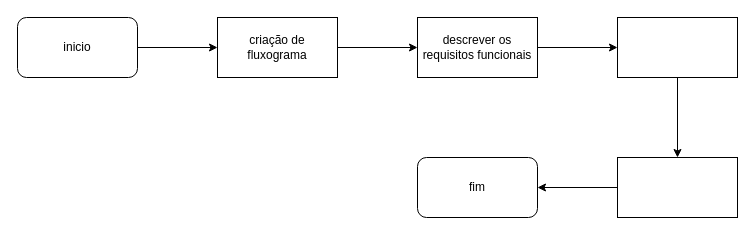
Image size: 755x235. Some labels were removed from this diagram. Each missing label, with the centre of its shape:
realizar os requisitos organizacionais: (677,47)
realização de testes: (677,187)
